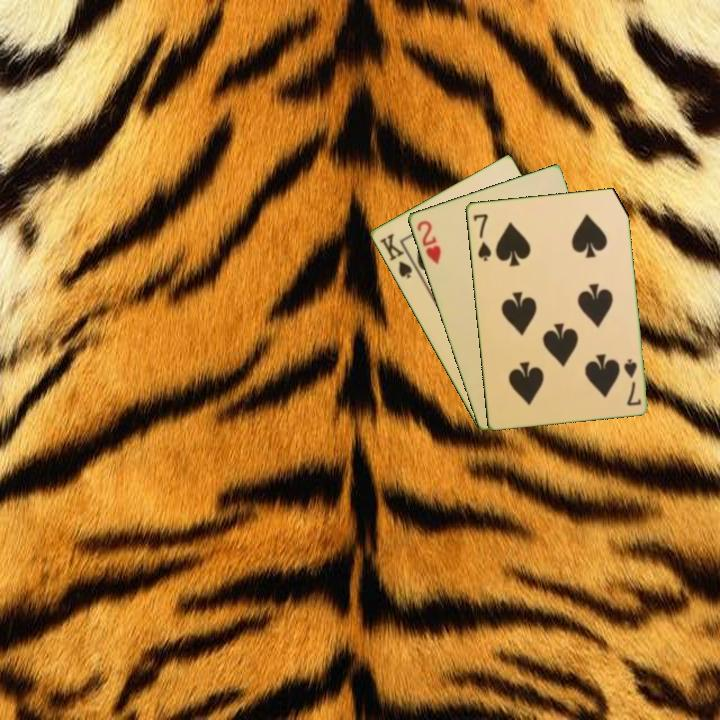2h: (413, 216, 444, 267)
7s: (470, 210, 494, 264), (620, 355, 644, 408)
Ks: (376, 230, 420, 281)
